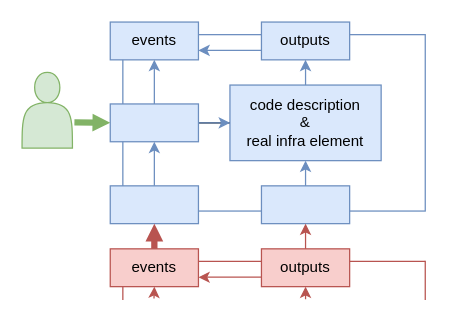
This 449x331 diagram has some shape labels left out. The shapes that lost their labels are listed below. From the top down, each one's box as (x1, y1, x2, y2) in pixels, then its label:
(109, 103, 198, 142): commands
(109, 185, 198, 224): triggers
(260, 185, 350, 224): inputs
